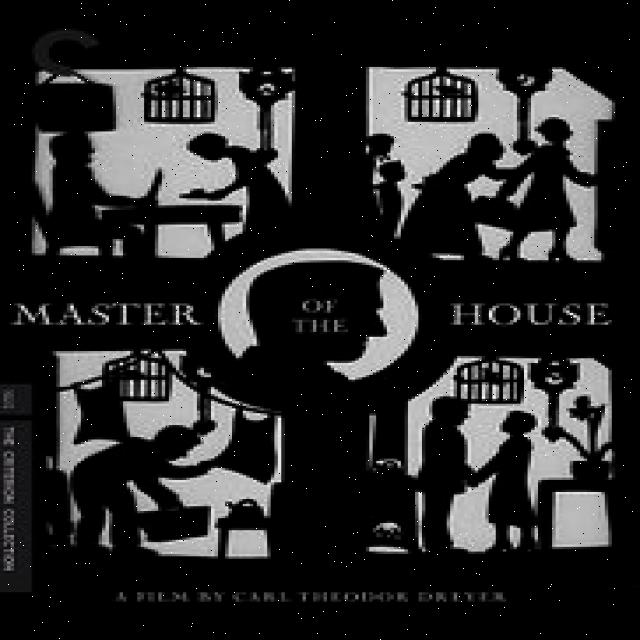movie-judul: (9, 286, 640, 341)
picture: (14, 19, 628, 580)
